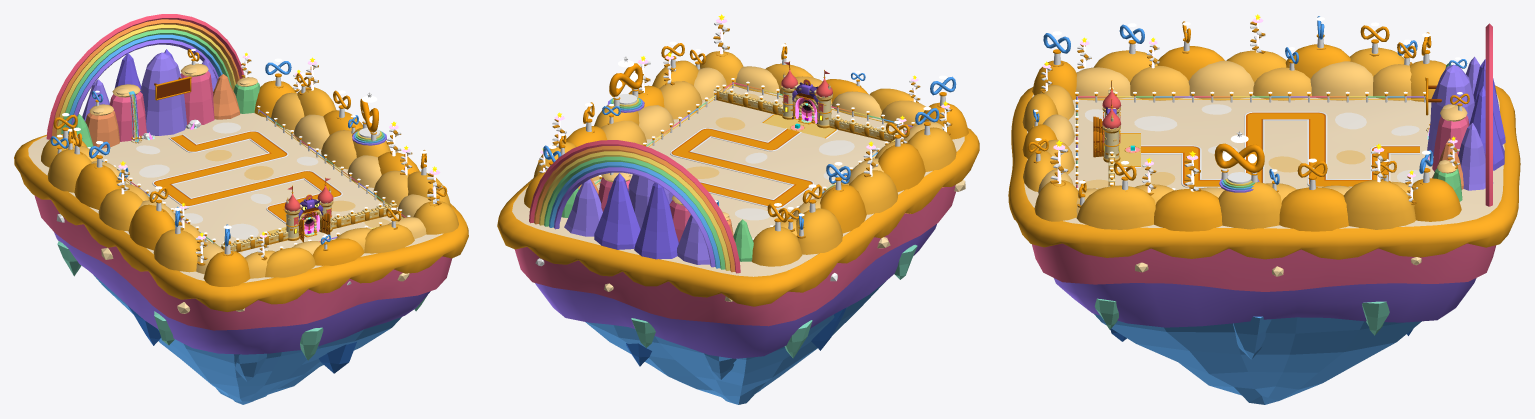
Rendered from infinity_base.fbx.
3 views of the same model, side by side, from view 1: azimuth 30°, elevation 25°; view 2: azimuth 150°, elevation 25°; view 3: azimuth 270°, elevation 25° (orthographic). The views are drawn at different scales.
Visible parts, largest first — view 1: Base_Backdrop, Base_Cliff, Base_Ground, Base_Road, Base_Trees, Base_Gate, Base_Glow, Base_Dressing, Base_GateTrim; view 2: Base_Cliff, Base_Backdrop, Base_Ground, Base_Trees, Base_Road, Base_Gate, Base_Glow, Base_Dressing, Base_GateTrim; view 3: Base_Cliff, Base_Backdrop, Base_Ground, Base_Trees, Base_Road, Base_Glow, Base_Dressing, Base_Gate, Base_GateTrim.
Boxes of the visible parts, <box> form: Base_Backdrop: <box>41,14,458,286</box>; Base_Cliff: <box>14,134,468,404</box>; Base_Ground: <box>28,113,443,282</box>; Base_Road: <box>152,130,342,234</box>; Base_Trees: <box>50,49,447,265</box>; Base_Gate: <box>221,177,396,252</box>; Base_Glow: <box>57,49,439,262</box>; Base_Dressing: <box>97,107,408,249</box>; Base_GateTrim: <box>284,178,333,225</box>; Base_Cliff: <box>497,128,979,404</box>; Base_Backdrop: <box>524,51,968,273</box>; Base_Ground: <box>512,86,964,276</box>; Base_Trees: <box>538,22,956,238</box>; Base_Road: <box>670,114,837,208</box>; Base_Gate: <box>714,61,899,142</box>; Base_Glow: <box>540,14,949,239</box>; Base_Dressing: <box>595,80,914,218</box>; Base_GateTrim: <box>781,62,832,130</box>; Base_Cliff: <box>1008,85,1520,404</box>; Base_Backdrop: <box>1022,23,1505,231</box>; Base_Ground: <box>1024,94,1504,228</box>; Base_Trees: <box>1027,16,1469,207</box>; Base_Road: <box>1117,111,1419,188</box>; Base_Glow: <box>1034,14,1462,199</box>; Base_Dressing: <box>1075,94,1425,187</box>; Base_Gate: <box>1093,80,1140,186</box>; Base_GateTrim: <box>1102,89,1139,152</box>.
Bounding box in the file's own units: 188 × 194 × 244.
